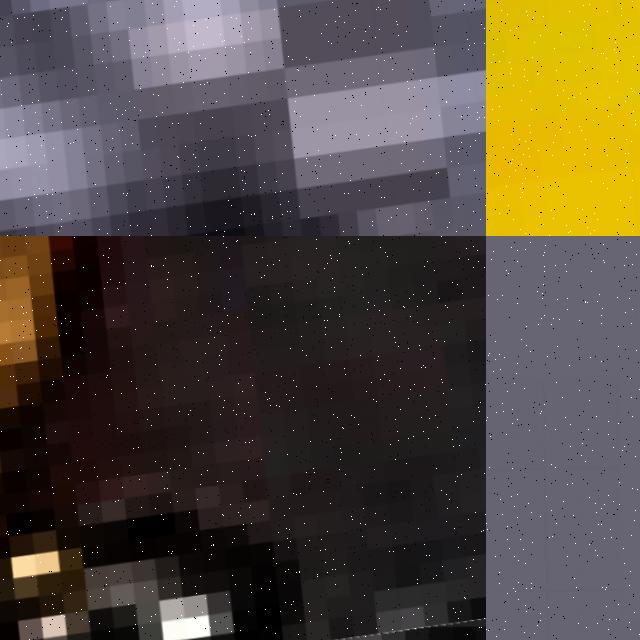0: (0, 0, 486, 236)
drone: (0, 236, 486, 640), (486, 0, 640, 236)
